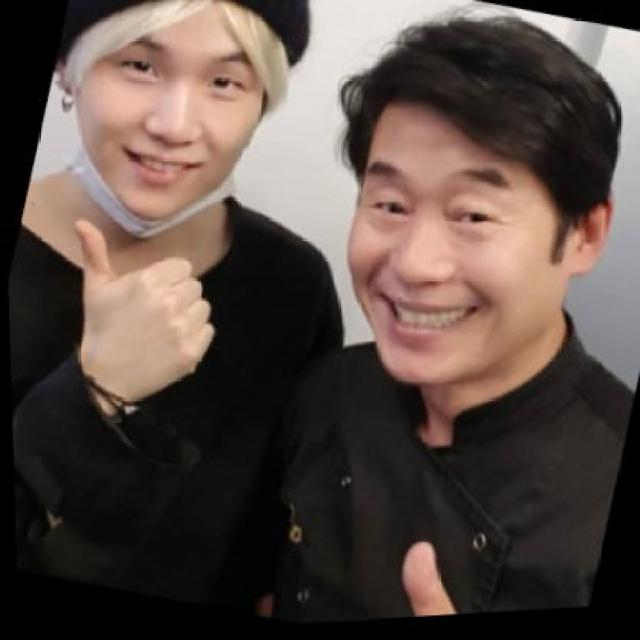hat: (51, 0, 332, 131)
